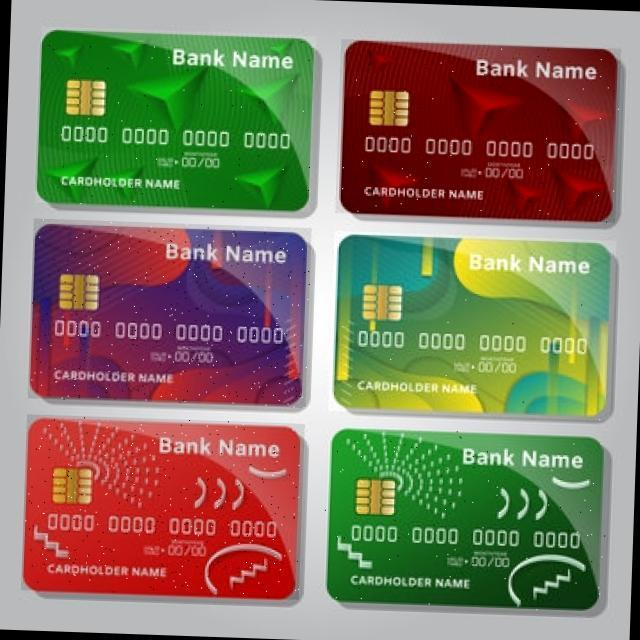payment_card: (32, 218, 308, 408), (342, 35, 621, 221), (326, 428, 605, 605), (338, 233, 610, 413), (23, 414, 296, 592), (40, 32, 313, 203)
